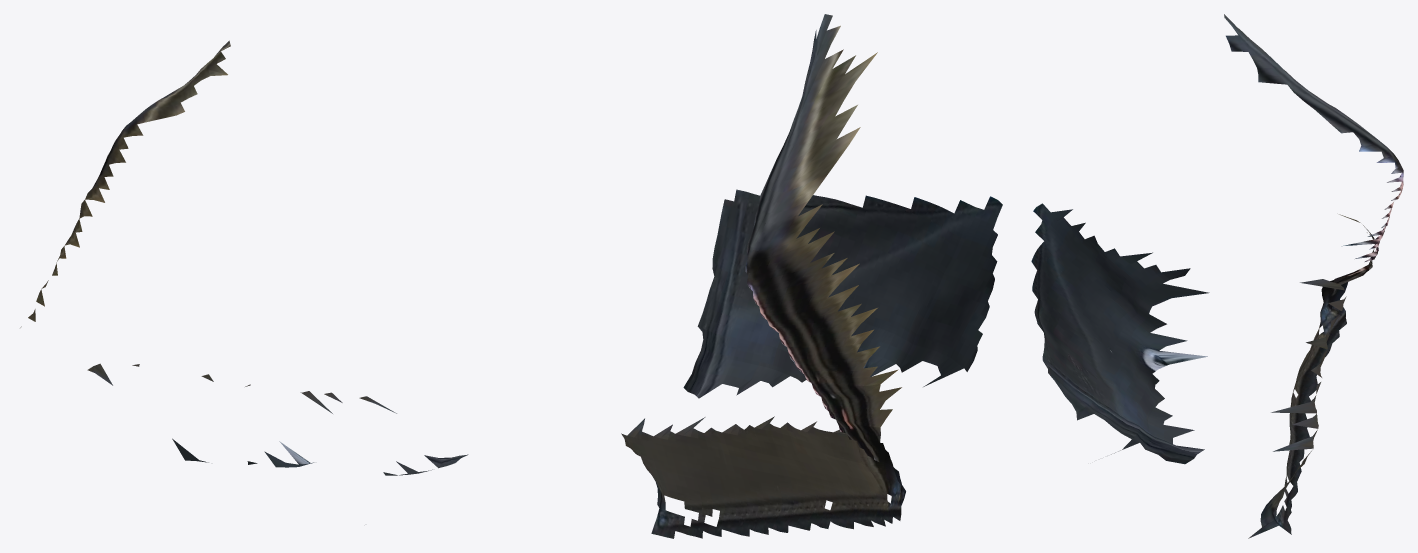
The model's file is observed-surface.glb.
3 renders of one model, left to right at view 1: azimuth 30°, elevation 25°; view 2: azimuth 150°, elevation 25°; view 3: azimuth 270°, elevation 25°, orthographic. The views are drawn at different scales.
Visible parts, largest first — view 1: geometry_0; view 2: geometry_0; view 3: geometry_0.
Boxes of the visible parts, x1,y1,x2,y2 form: geometry_0: (20,40,468,475); geometry_0: (621,14,1002,538); geometry_0: (1031,14,1403,538).
Size of the model in its own units: 0.4672 by 0.6738 by 0.4939.
1 material, 1 textured.
